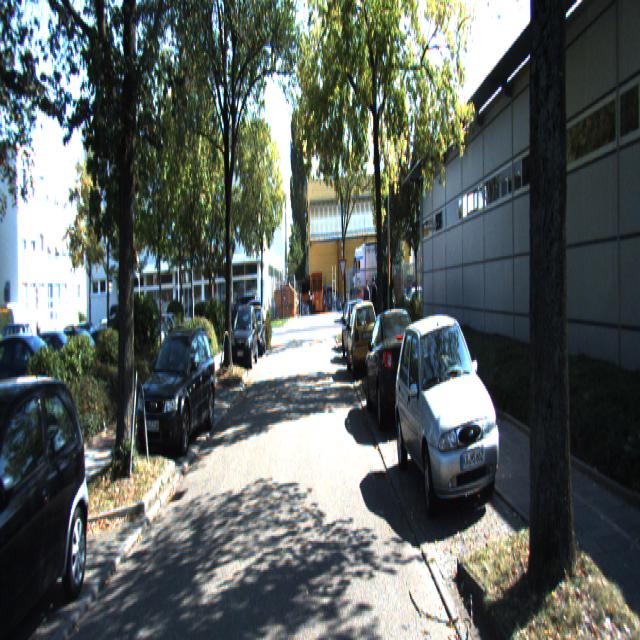Car: (0, 362, 96, 638), (393, 305, 507, 524), (136, 321, 217, 461), (364, 305, 428, 436), (346, 300, 380, 384), (231, 303, 259, 371), (341, 299, 369, 365), (245, 306, 266, 358)
